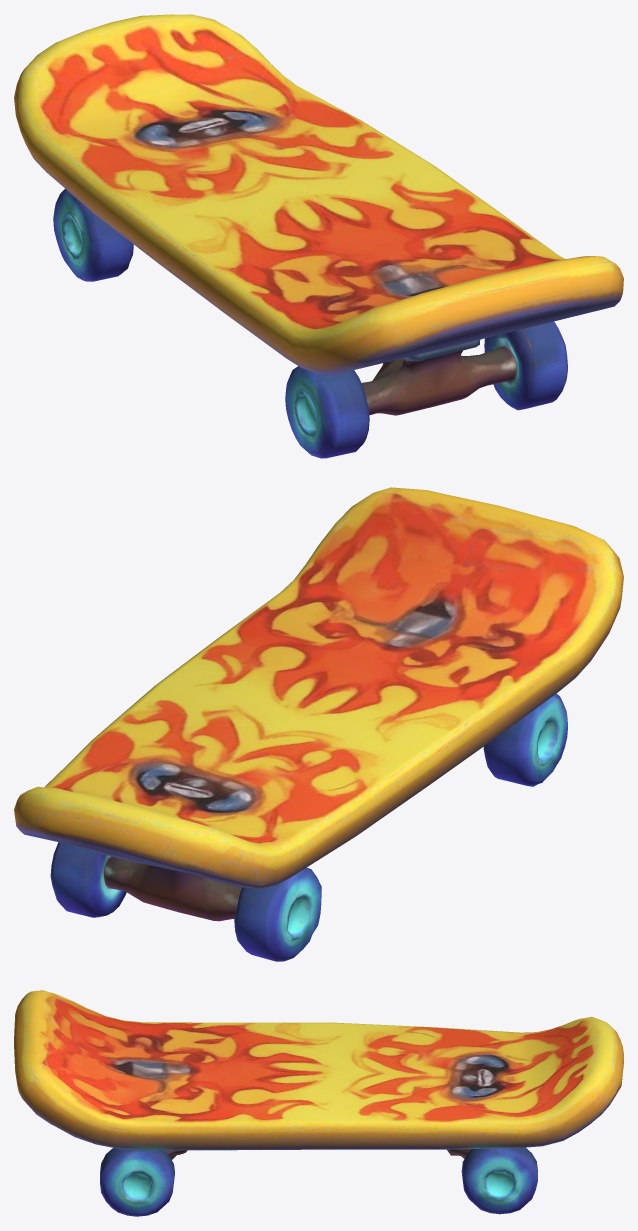
File: hoverboard.glb
3 renders of one model, top to bottom at view 1: azimuth 30°, elevation 25°; view 2: azimuth 150°, elevation 25°; view 3: azimuth 270°, elevation 25°, orthographic. The views are drawn at different scales.
Parts seen in each view (by area): view 1: tripo_node_5f90b060-9bb9-4038-9678-97ed0ac78520; view 2: tripo_node_5f90b060-9bb9-4038-9678-97ed0ac78520; view 3: tripo_node_5f90b060-9bb9-4038-9678-97ed0ac78520.
Part boxes in pixels (x1,y1,x2,y2): tripo_node_5f90b060-9bb9-4038-9678-97ed0ac78520: (14,14,623,458); tripo_node_5f90b060-9bb9-4038-9678-97ed0ac78520: (14,487,623,961); tripo_node_5f90b060-9bb9-4038-9678-97ed0ac78520: (14,990,623,1216).
Size of the model in its own units: 0.416 by 0.2754 by 0.998.
1 material, 1 textured.
